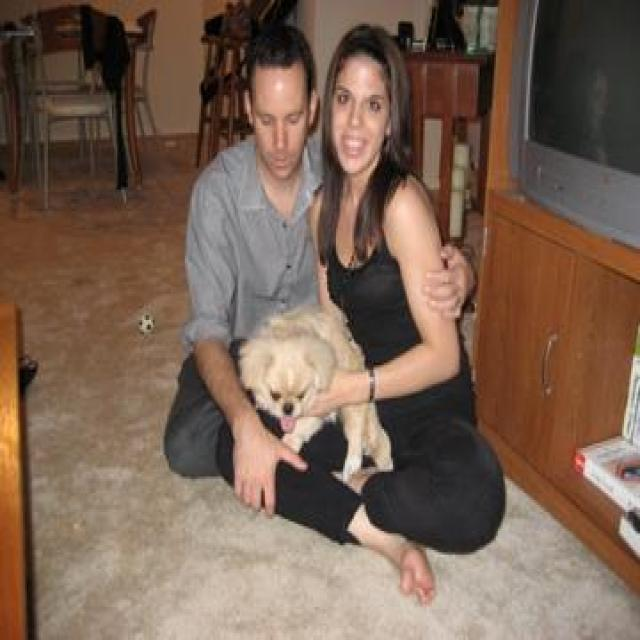pekinese: (233, 298, 398, 491)
